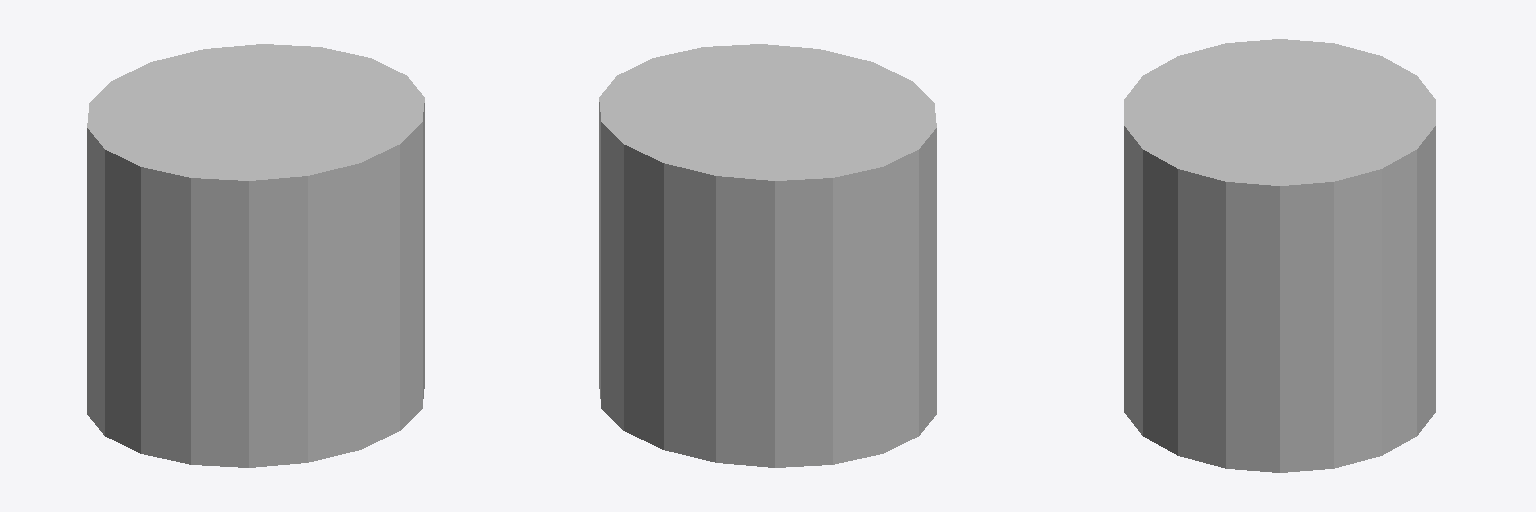
Rendered from original-3.obj.
3 views of the same model, side by side, from view 1: azimuth 30°, elevation 25°; view 2: azimuth 150°, elevation 25°; view 3: azimuth 270°, elevation 25° (orthographic).
Visible parts, largest first — view 1: mesh2/mesh2-geometry#mesh2-geometry; view 2: mesh2/mesh2-geometry#mesh2-geometry; view 3: mesh2/mesh2-geometry#mesh2-geometry.
Boxes of the visible parts, x1,y1,x2,y2 form: mesh2/mesh2-geometry#mesh2-geometry: [87, 44, 424, 467]; mesh2/mesh2-geometry#mesh2-geometry: [599, 44, 936, 467]; mesh2/mesh2-geometry#mesh2-geometry: [1124, 39, 1435, 472].
Size of the model in its own units: 0.0429 by 0.039 by 0.0384.